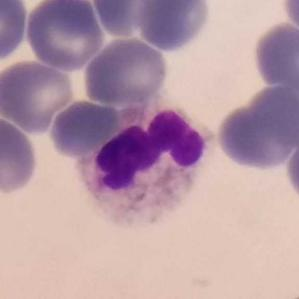Neutrophil: (71, 100, 219, 234)
RBC: (213, 82, 299, 173), (81, 35, 170, 107), (24, 0, 106, 72), (0, 58, 75, 134), (47, 97, 127, 162), (134, 0, 215, 54), (250, 21, 299, 100), (0, 114, 41, 197), (90, 0, 168, 40), (0, 0, 31, 63), (283, 124, 299, 211), (281, 0, 299, 39)
